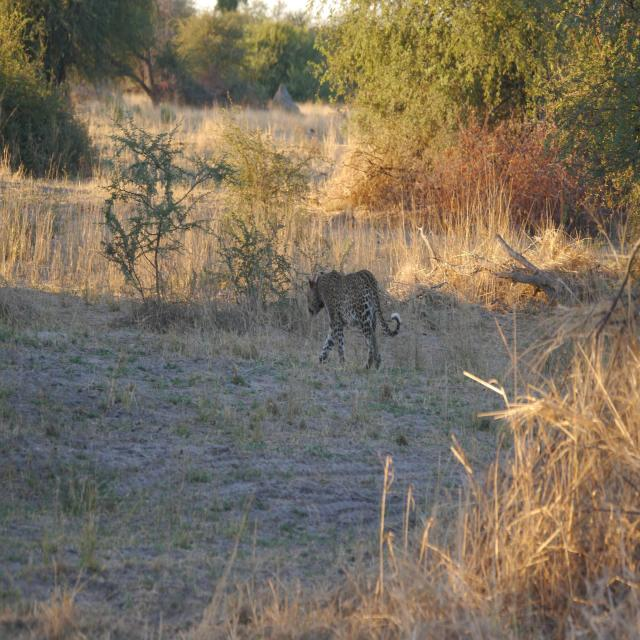Leopard: (302, 270, 406, 376)
